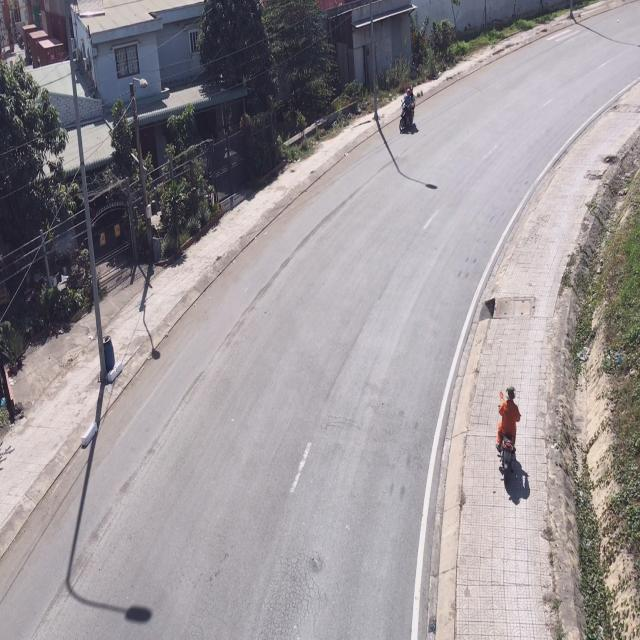motorbike: (496, 386, 518, 472), (398, 90, 415, 136)
